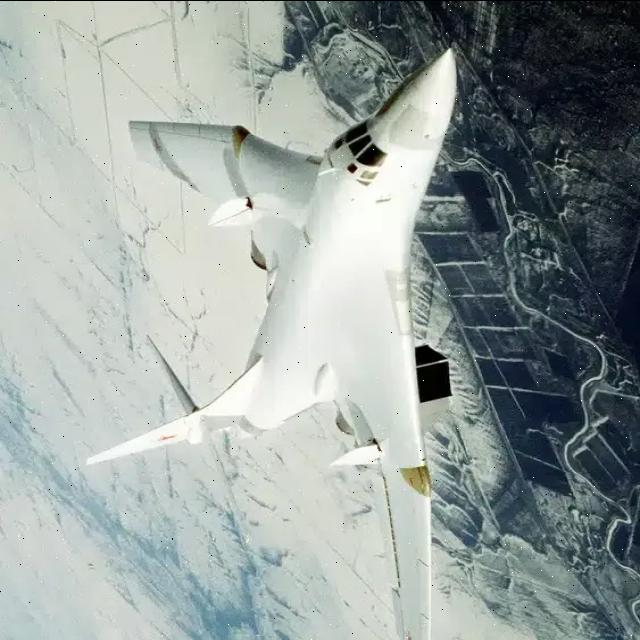Tu160: (58, 41, 516, 640)
